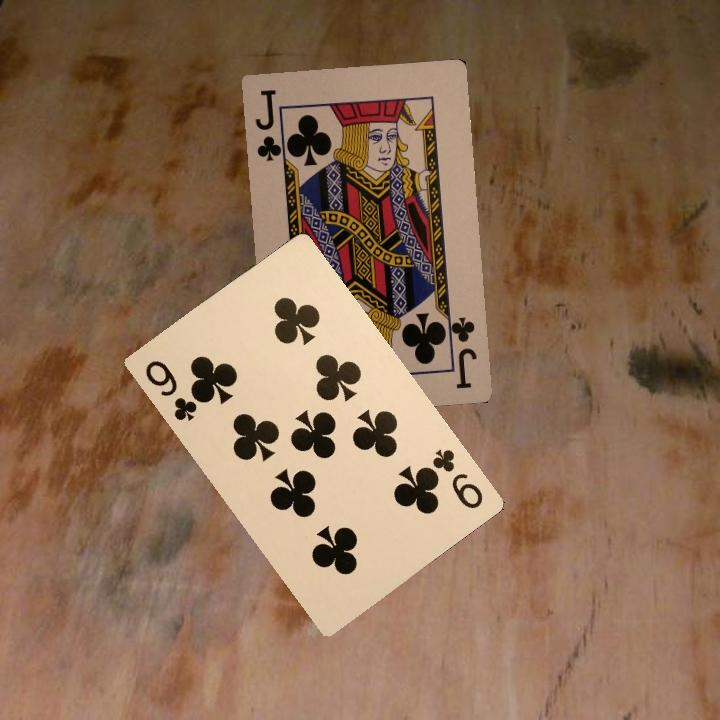9c: (425, 444, 486, 512), (141, 356, 200, 424)
Jc: (251, 85, 290, 165), (442, 311, 479, 391)
